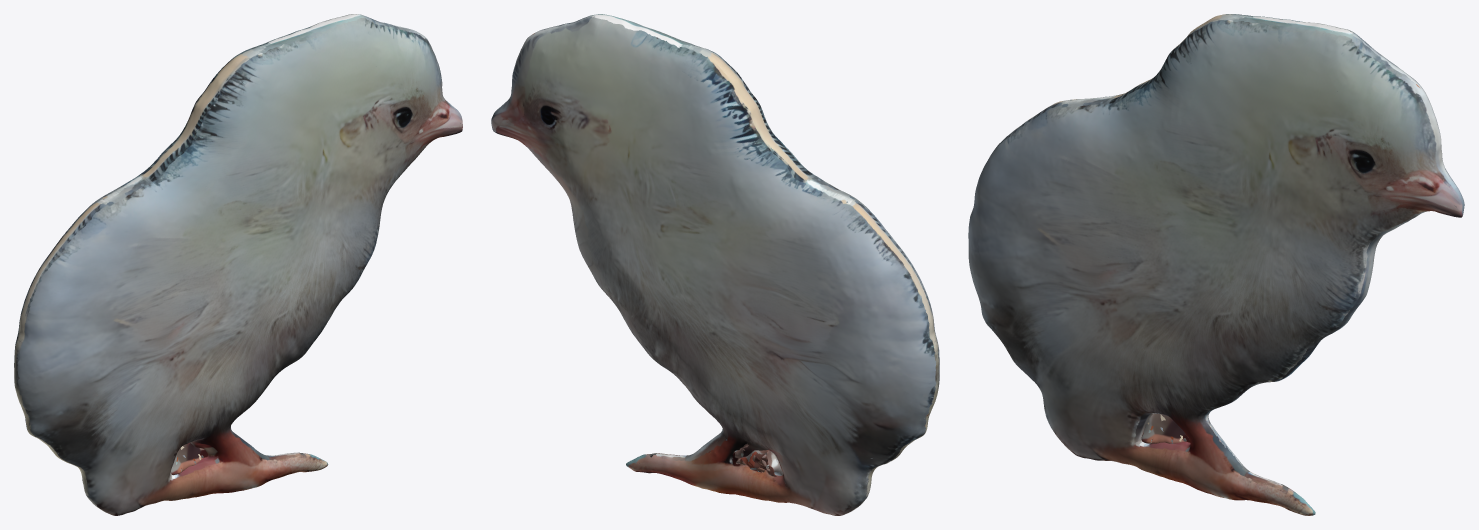
The model's file is bebe.glb.
The picture shows the model from 3 angles, left to right: view 1: azimuth 30°, elevation 25°; view 2: azimuth 150°, elevation 25°; view 3: azimuth 330°, elevation 25°; orthographic projection. The views are drawn at different scales.
Parts seen in each view (by area): view 1: mesh; view 2: mesh; view 3: mesh.
Part boxes in pixels (x1=…): mesh: x1=14, y1=14, x2=462, y2=515; mesh: x1=491, y1=14, x2=939, y2=515; mesh: x1=968, y1=14, x2=1464, y2=515.
Size of the model in its own units: 1.74 by 1.66 by 0.2479.
1 material, 1 textured.
